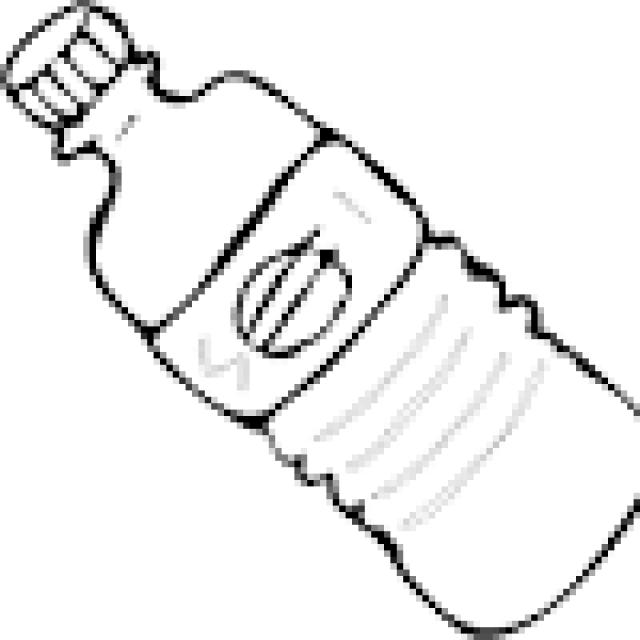bottle: (0, 5, 640, 634)
